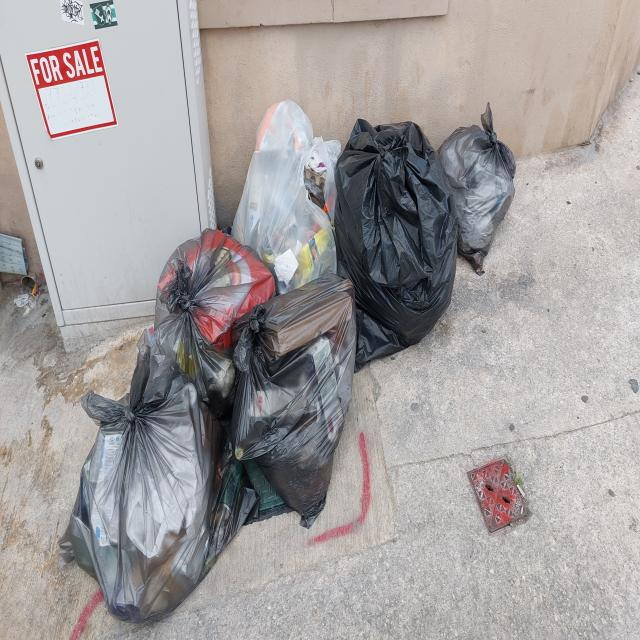Mixed Waste -Black Bag-: (71, 367, 237, 627), (232, 285, 358, 527), (337, 122, 458, 372), (156, 230, 273, 409), (454, 125, 515, 274)
Organic Waste -White Bag-: (235, 99, 342, 285)
